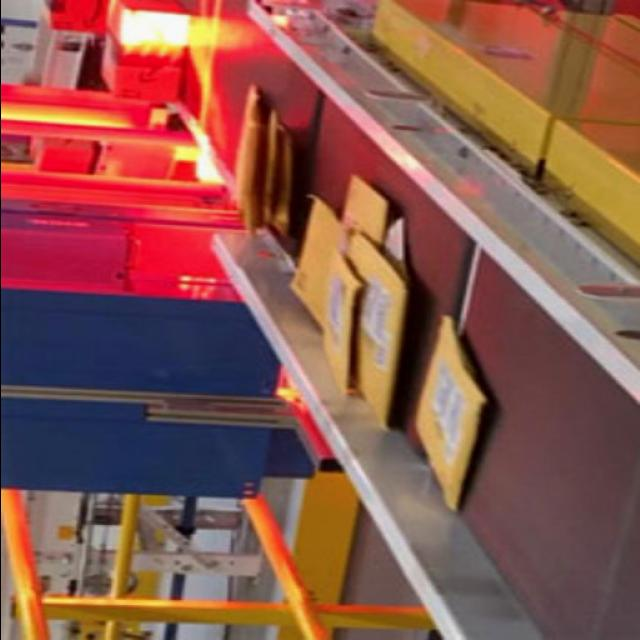conveyor: (168, 0, 640, 640)
